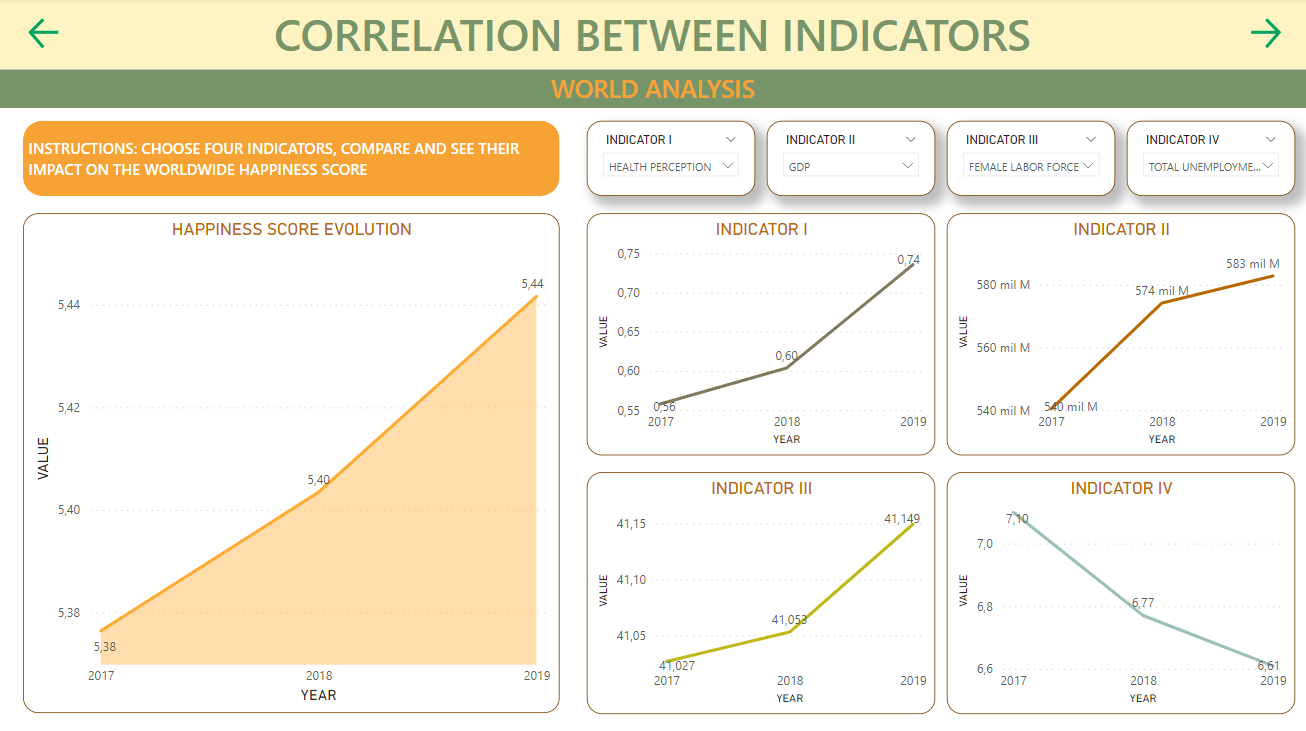

What the dashboard file says about the page in this screenshot:
{"tool":"powerbi","page":{"name":"INDICATORS CORRELATIONS","canvas":[1280,720],"ordinal":4},"visuals":[{"type":"slicer","fields":{"Values":["HAPPINESS_INDEX.HAPPINESS_INDICATOR.HAPPINESS_INDICATOR"]},"box":[75.7,323.8,223.4,72],"z":0},{"type":"slicer","fields":{"Values":["DEVELOPMENT_INDEX.COUNTRY"]},"box":[73.8,331.4,123.1,70.1],"z":1000},{"type":"shape","box":[0,0,1280,70.1],"z":2000},{"type":"shape","box":[0,70.4,1280.5,37.4],"z":3000},{"type":"areaChart","title":"HAPPINESS SCORE EVOLUTION","fields":{"Category":["HAPPINESS_INDEX.YEAR"],"Y":["Avg(HAPPINESS_INDEX.VALUE_HAPPINESS)"]},"box":[24.6,212.1,524.5,488.5],"z":4000},{"type":"lineChart","title":"INDICATOR I","fields":{"Category":["HAPPINESS_INDEX.YEAR"],"Y":["Avg(HAPPINESS_INDEX.VALUE_HAPPINESS)"]},"box":[575.6,212.1,340.8,236.7],"z":5000},{"type":"slicer","fields":{"Values":["HAPPINESS_INDEX.HAPPINESS_INDICATOR.HAPPINESS_INDICATOR"]},"box":[575.6,121.2,164.7,73.8],"z":6000},{"type":"lineChart","title":"INDICATOR III","fields":{"Category":["DEVELOPMENT_INDEX.YEAR"],"Y":["Avg(DEVELOPMENT_INDEX.VALUE_DEVELOPMENT)"]},"box":[575.6,463.9,340.8,236.7],"z":7000},{"type":"lineChart","title":"INDICATOR II","fields":{"Category":["HAPPINESS_INDEX.YEAR"],"Y":["Avg(HAPPINESS_INDEX.VALUE_HAPPINESS)"]},"box":[927.8,212.1,340.8,236.7],"z":8000},{"type":"lineChart","title":"INDICATOR IV","fields":{"Category":["DEVELOPMENT_INDEX.YEAR"],"Y":["Avg(DEVELOPMENT_INDEX.VALUE_DEVELOPMENT)"]},"box":[927.8,463.9,340.8,236.7],"z":9000},{"type":"slicer","fields":{"Values":["HAPPINESS_INDEX.HAPPINESS_INDICATOR.HAPPINESS_INDICATOR"]},"box":[751.7,121.2,164.7,73.8],"z":10000},{"type":"slicer","fields":{"Values":["DEVELOPMENT_INDEX.DEVELOPMENT_INDICATOR.DEVELOPMENT_INDICATOR"]},"box":[927.8,121.2,165,73.8],"z":11000},{"type":"slicer","fields":{"Values":["DEVELOPMENT_INDEX.DEVELOPMENT_INDICATOR.DEVELOPMENT_INDICATOR"]},"box":[1103.9,121.2,164.7,73.8],"z":12000},{"type":"actionButton","box":[25.4,15.6,99.7,39.1],"z":13000},{"type":"actionButton","box":[1158.8,15.6,99.7,39.1],"z":14000},{"type":"shape","box":[24.6,121.2,524.5,73.8],"z":15000}]}

Visuals, with their boxes in screenshot pixels (x1, y1, x2, y2), scaled from the page's 1280x720 canvas onto the 1306x731 screenshot:
slicer - HAPPINESS_INDEX.HAPPINESS_INDICATOR.HAPPINESS_INDICATOR: (77,329,305,402)
slicer - DEVELOPMENT_INDEX.COUNTRY: (75,336,201,408)
shape: (0,0,1305,71)
shape: (0,71,1305,109)
"HAPPINESS SCORE EVOLUTION" areaChart: (25,215,560,711)
"INDICATOR I" lineChart: (587,215,935,456)
slicer - HAPPINESS_INDEX.HAPPINESS_INDICATOR.HAPPINESS_INDICATOR: (587,123,755,198)
"INDICATOR III" lineChart: (587,471,935,711)
"INDICATOR II" lineChart: (947,215,1294,456)
"INDICATOR IV" lineChart: (947,471,1294,711)
slicer - HAPPINESS_INDEX.HAPPINESS_INDICATOR.HAPPINESS_INDICATOR: (767,123,935,198)
slicer - DEVELOPMENT_INDEX.DEVELOPMENT_INDICATOR.DEVELOPMENT_INDICATOR: (947,123,1115,198)
slicer - DEVELOPMENT_INDEX.DEVELOPMENT_INDICATOR.DEVELOPMENT_INDICATOR: (1126,123,1294,198)
actionButton: (26,16,128,56)
actionButton: (1182,16,1284,56)
shape: (25,123,560,198)
